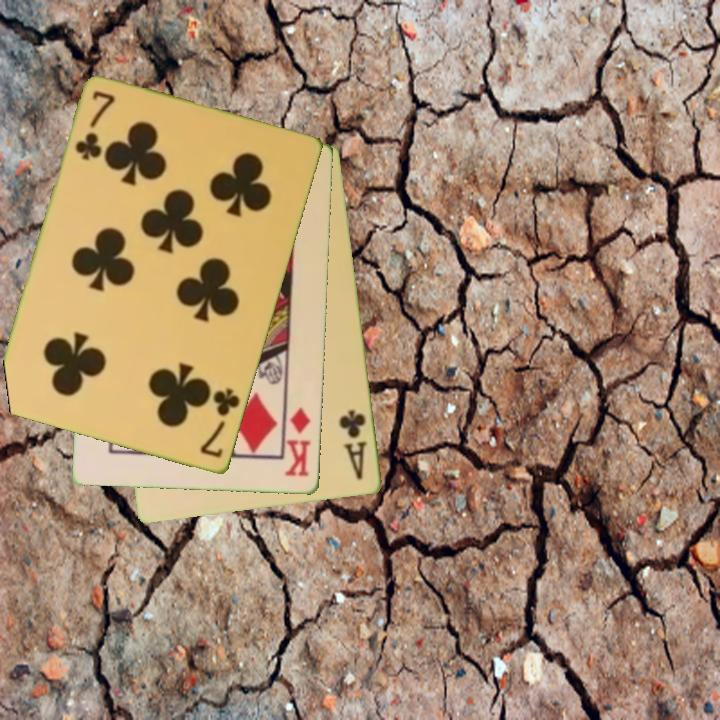7c: (72, 88, 119, 164), (197, 385, 243, 462)
Ac: (336, 406, 370, 483)
Kd: (281, 404, 314, 480)
